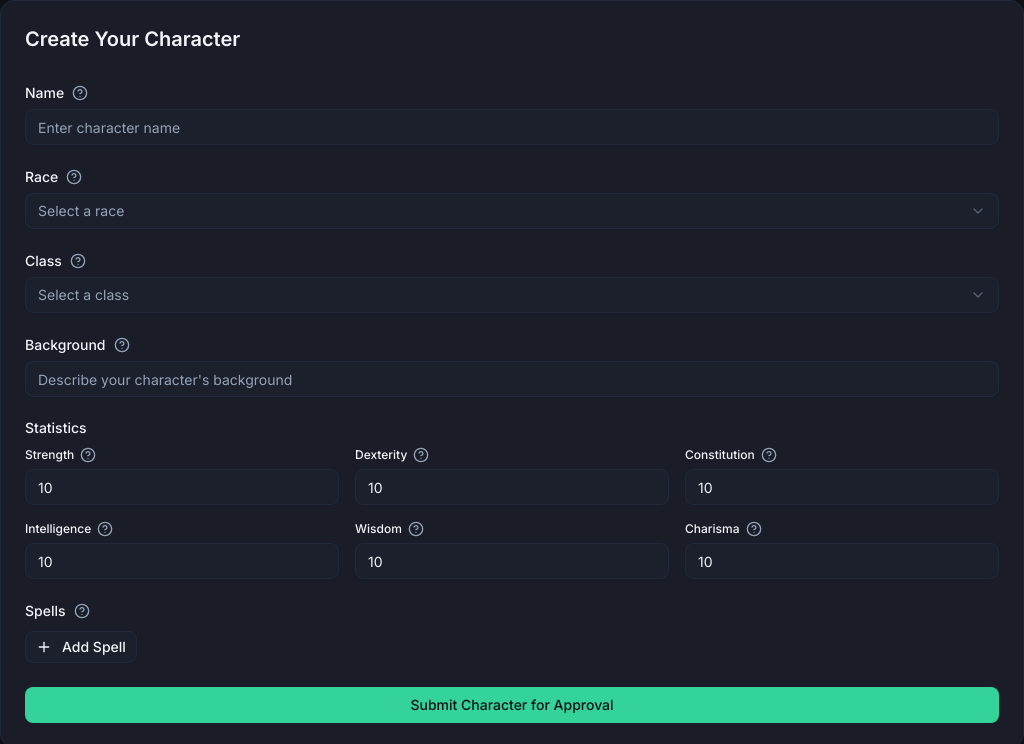
Scenario: CharacterForm › should show validation error for empty name on submit
Click the button "Submit Character for Approval": (512, 705) x1=25 y1=687 x2=999 y2=723
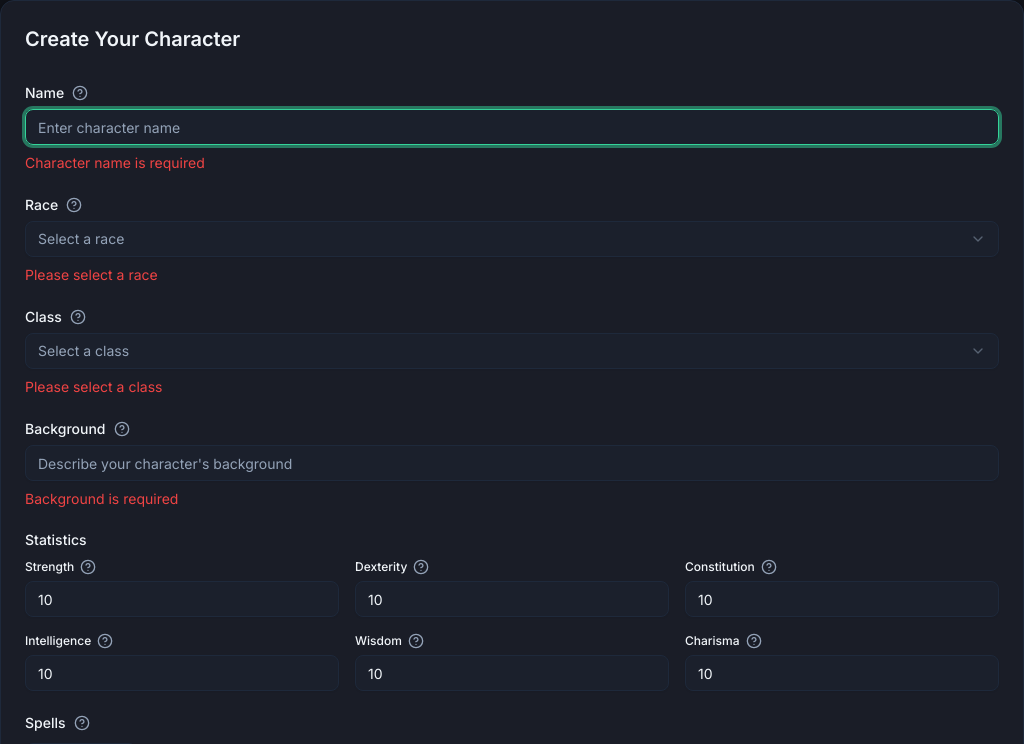
expect the text "Character name is required" is shown: met, box x1=25 y1=154 x2=205 y2=171
